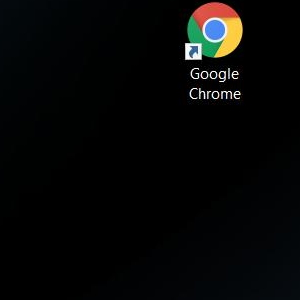chrome: (184, 2, 243, 60)
